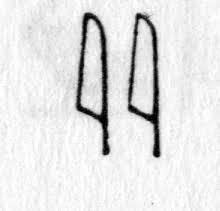Reed: (121, 8, 165, 162), (72, 9, 115, 161)
